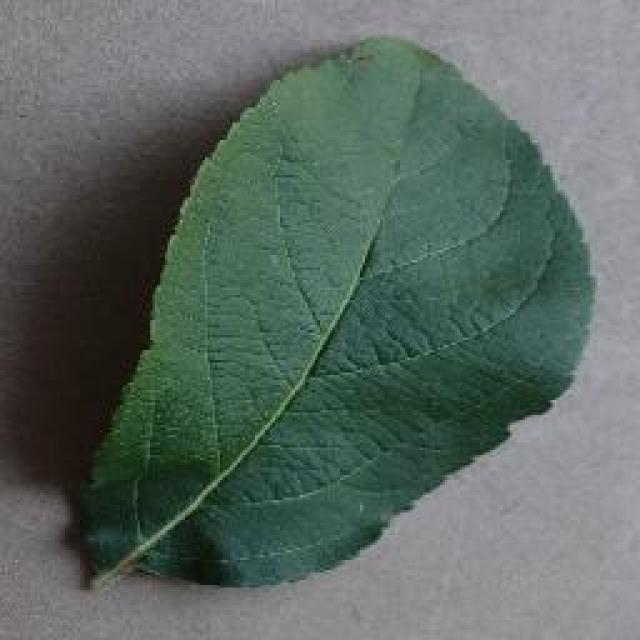apple healthy: (72, 30, 598, 590)
